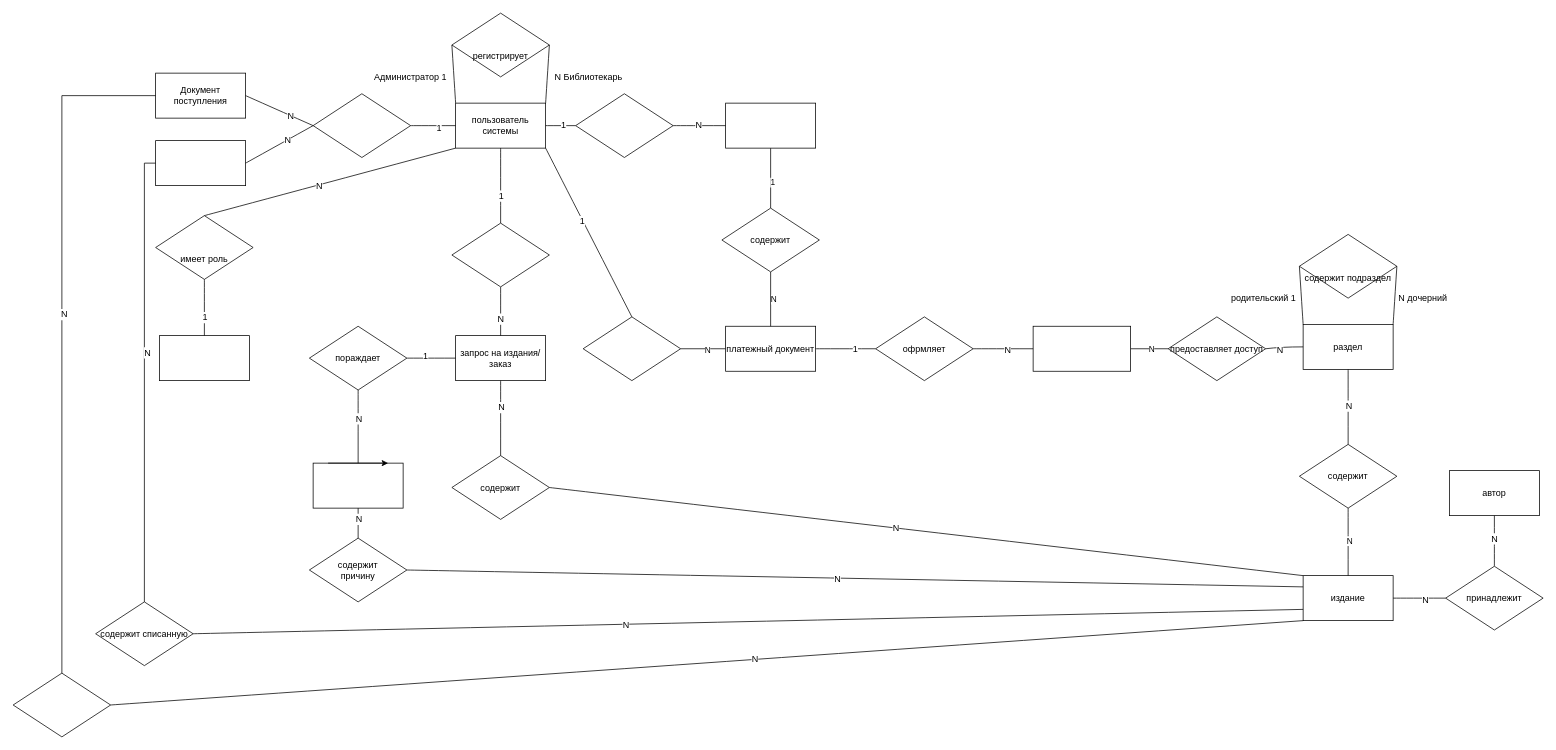
The diagram is 1556 pixels wide and 750 high, and some of its shapes have lost their labels. The shapes that lost their labels are listed below. From the top down, each one's centre as x and y in pixels, then its label:
At (361,125): "библиотекарь принимает".
At (624,125): "заключает договор".
At (770,125): "договор".
At (200,163): "Документ списания".
At (500,254): "читатель запрашивает издания".
At (204,358): "роль пользователя".
At (631,348): "читатель оплачивает подписку".
At (1081,348): "подписка".
At (357,485): "отказ".
At (61,704): "содержит новую".
